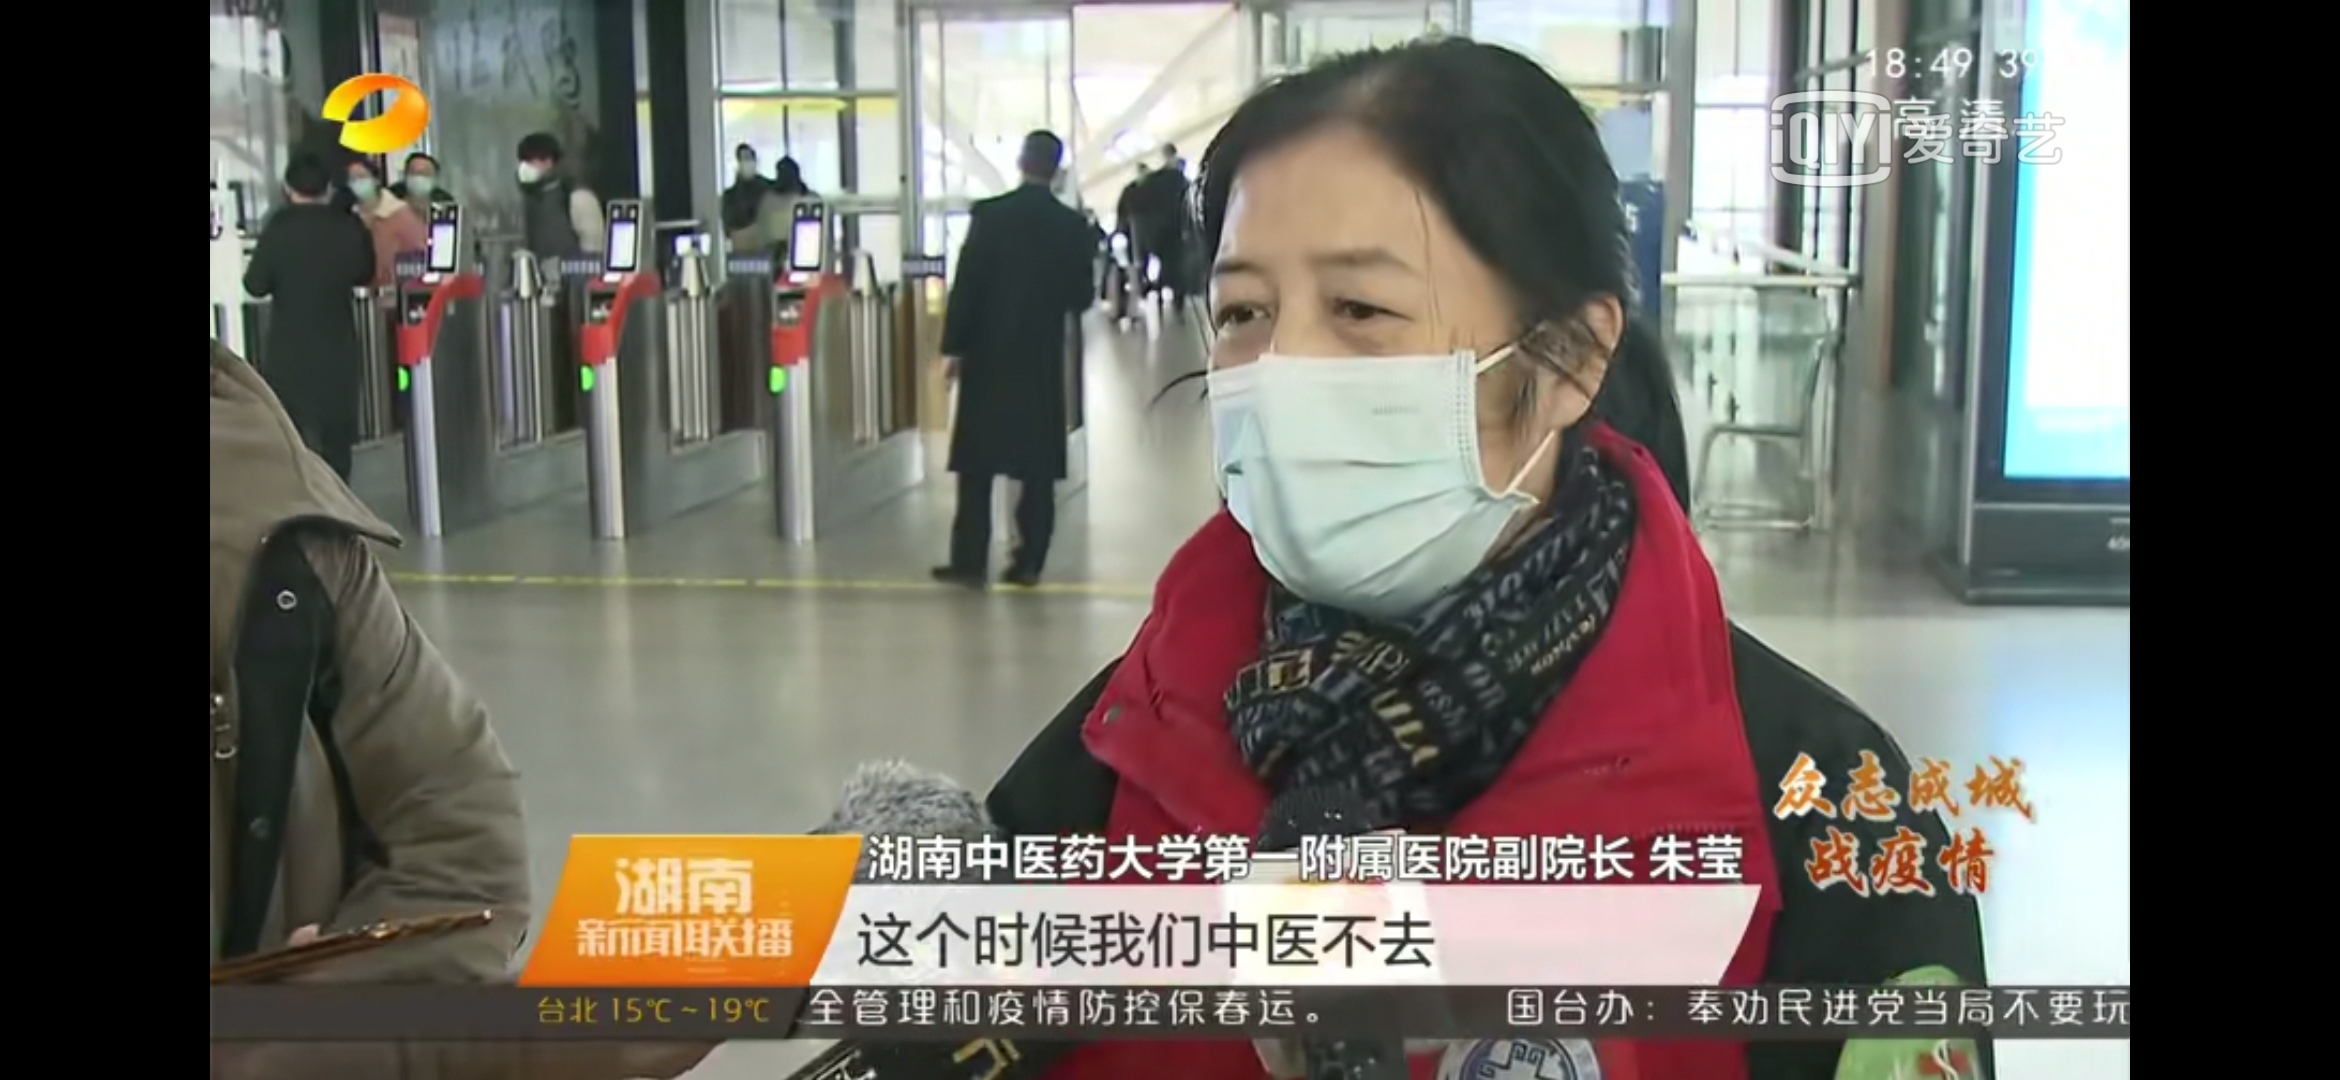correctlyWear: (1201, 267, 1601, 619), (401, 163, 439, 201), (513, 155, 555, 186), (345, 170, 381, 201), (739, 148, 755, 178)
